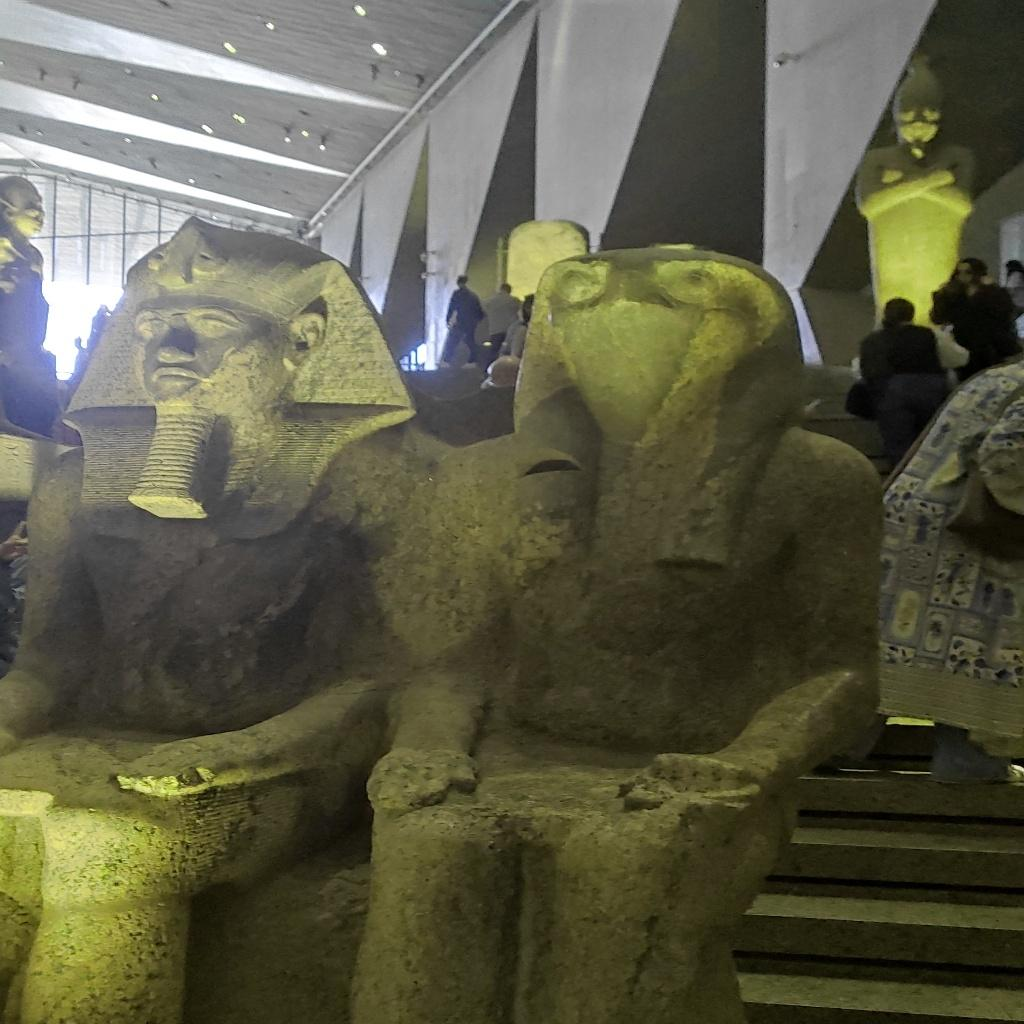Statue of Amenhotep III and God Re-Horakhty: (48, 215, 872, 859)
